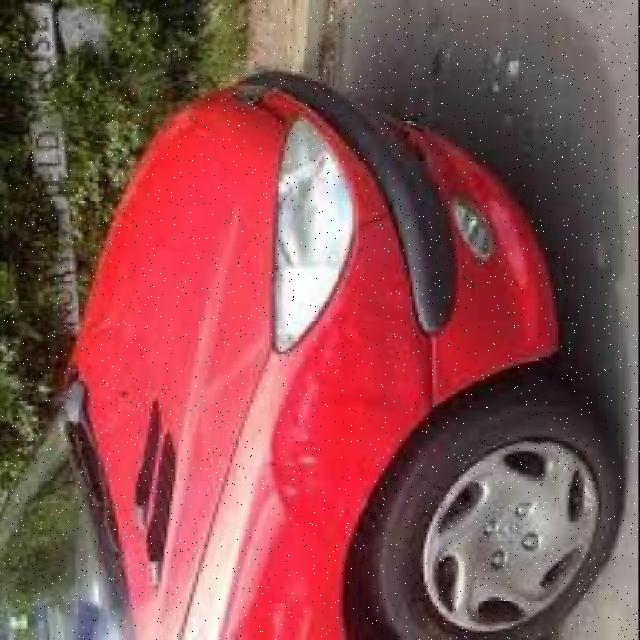damage: (264, 230, 450, 528)
